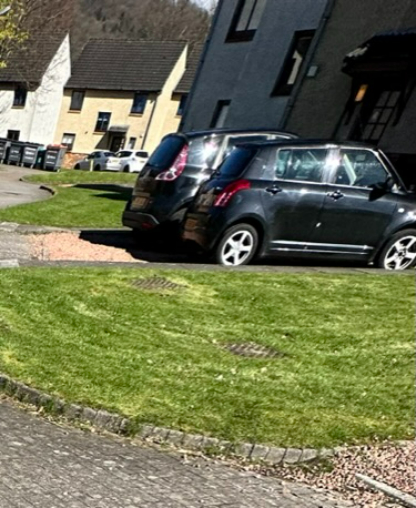car: (196, 133, 416, 276), (122, 122, 218, 238), (76, 149, 117, 171), (121, 147, 153, 169)
